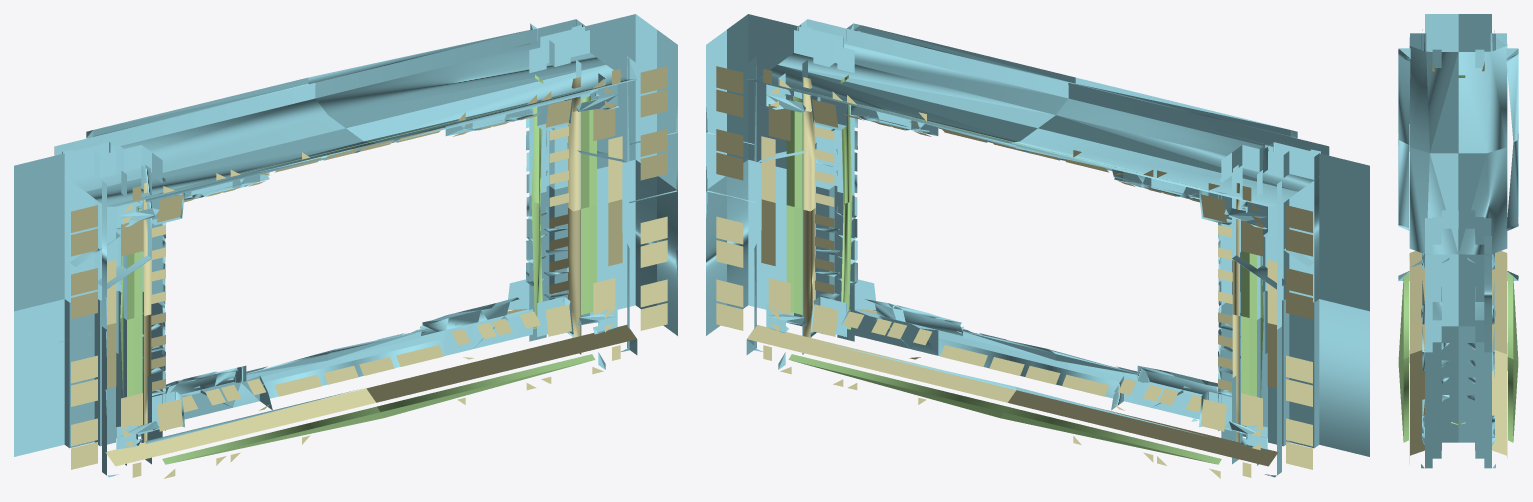
The model's file is grimhex_building_3_floor_landingpad_corner_48x24_a_lod3.glb.
3 renders of one model, left to right at view 1: azimuth 30°, elevation 25°; view 2: azimuth 150°, elevation 25°; view 3: azimuth 270°, elevation 25°, orthographic. The views are drawn at different scales.
Bounding box in the file's own units: 80 × 36.04 × 16.86.
